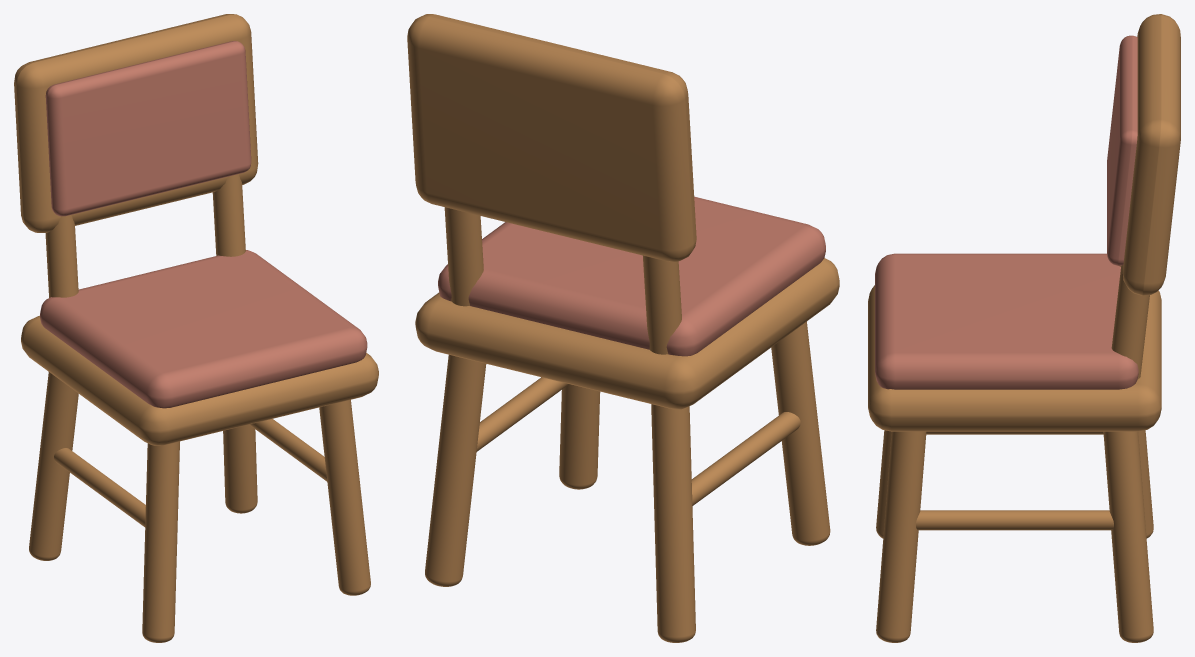
File: chair-terracotta.glb
3 views of the same model, side by side, from view 1: azimuth 30°, elevation 25°; view 2: azimuth 150°, elevation 25°; view 3: azimuth 270°, elevation 25° (orthographic). The views are drawn at different scales.
Visible parts, largest first — view 1: chair-terracotta; view 2: chair-terracotta; view 3: chair-terracotta.
Part boxes in pixels (x1,y1,x2,y2): chair-terracotta: (14,14,378,642); chair-terracotta: (407,14,839,642); chair-terracotta: (868,14,1180,642).
Bounding box in the file's own units: 0.44 × 0.8608 × 0.4686.
